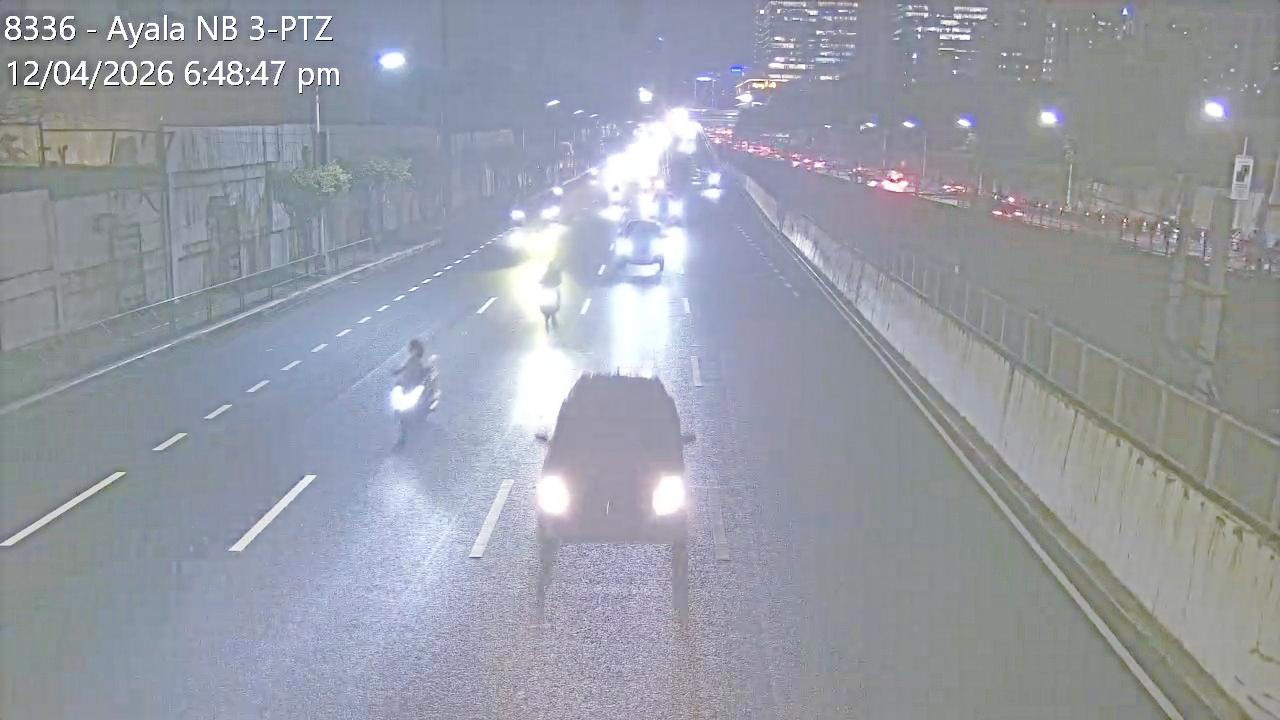Car: (530, 369, 698, 595), (609, 216, 671, 278), (507, 188, 565, 236)
Motor: (384, 340, 433, 439), (539, 279, 562, 333)
